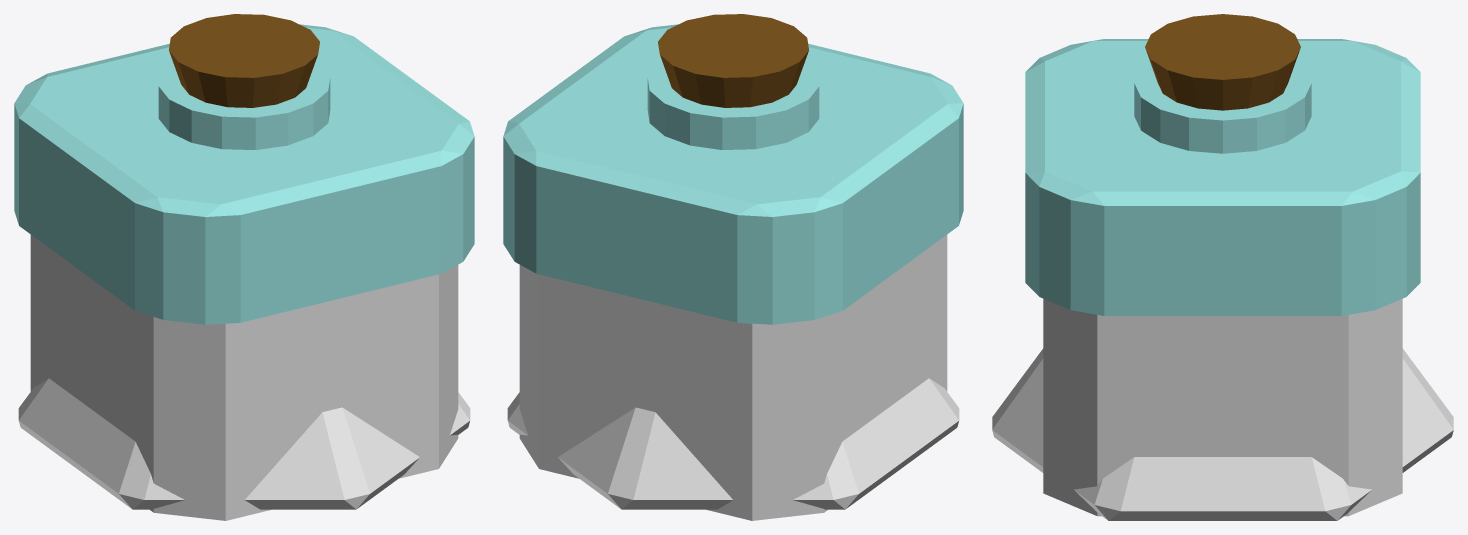
The model's file is Blocks.fbx.
3 renders of one model, left to right at view 1: azimuth 30°, elevation 25°; view 2: azimuth 150°, elevation 25°; view 3: azimuth 270°, elevation 25°, orthographic. The views are drawn at different scales.
Visible parts, largest first — view 1: Grass0, Spike0, Potion; view 2: Grass0, Spike0, Potion; view 3: Grass0, Spike0, Potion.
Boxes of the visible parts, box(x1,y1,x2,y2) form: Grass0: box(14, 24, 474, 520); Spike0: box(18, 378, 470, 509); Potion: box(158, 14, 330, 149); Grass0: box(503, 24, 963, 520); Spike0: box(507, 378, 959, 509); Potion: box(647, 14, 819, 149); Grass0: box(1025, 39, 1420, 516); Spike0: box(992, 348, 1453, 520); Potion: box(1134, 14, 1311, 153).
Bounding box in the file's own units: 1.17 × 1.22 × 1.3.
